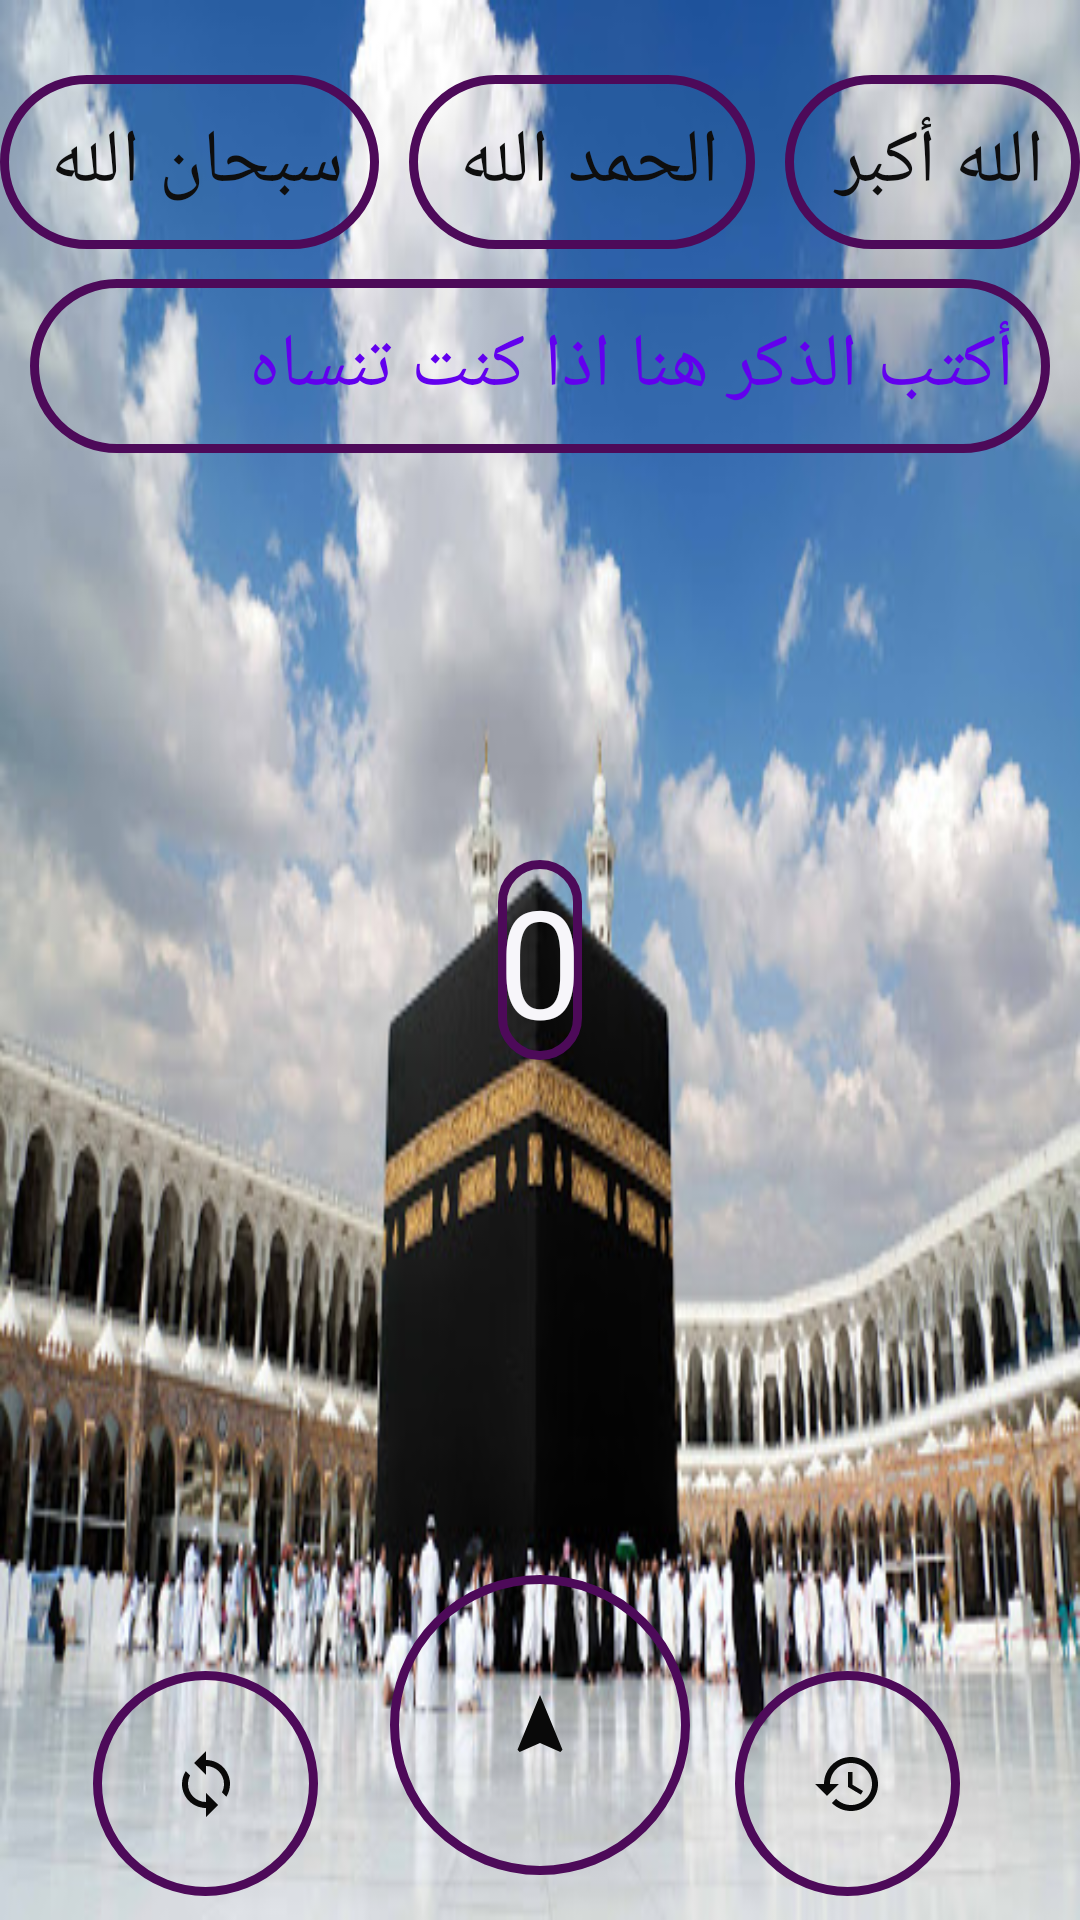

Icons on this 1080x1920 Android screen, each with the point to tap as [x,y]:
history: [847,1783]
loop: [205,1783]
navigation: [540,1725]
